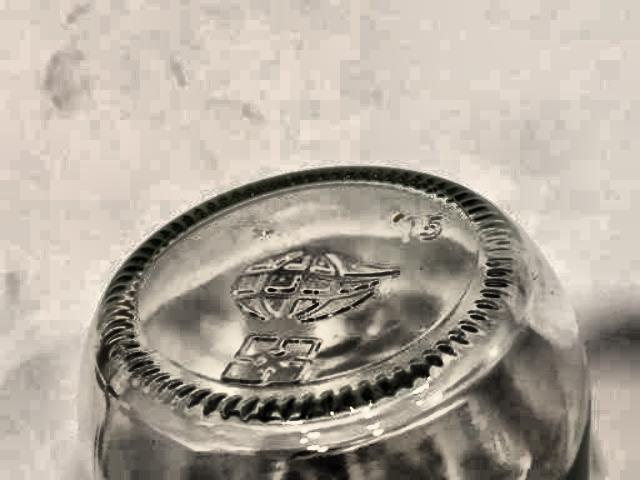Almennt: (71, 127, 634, 480)
